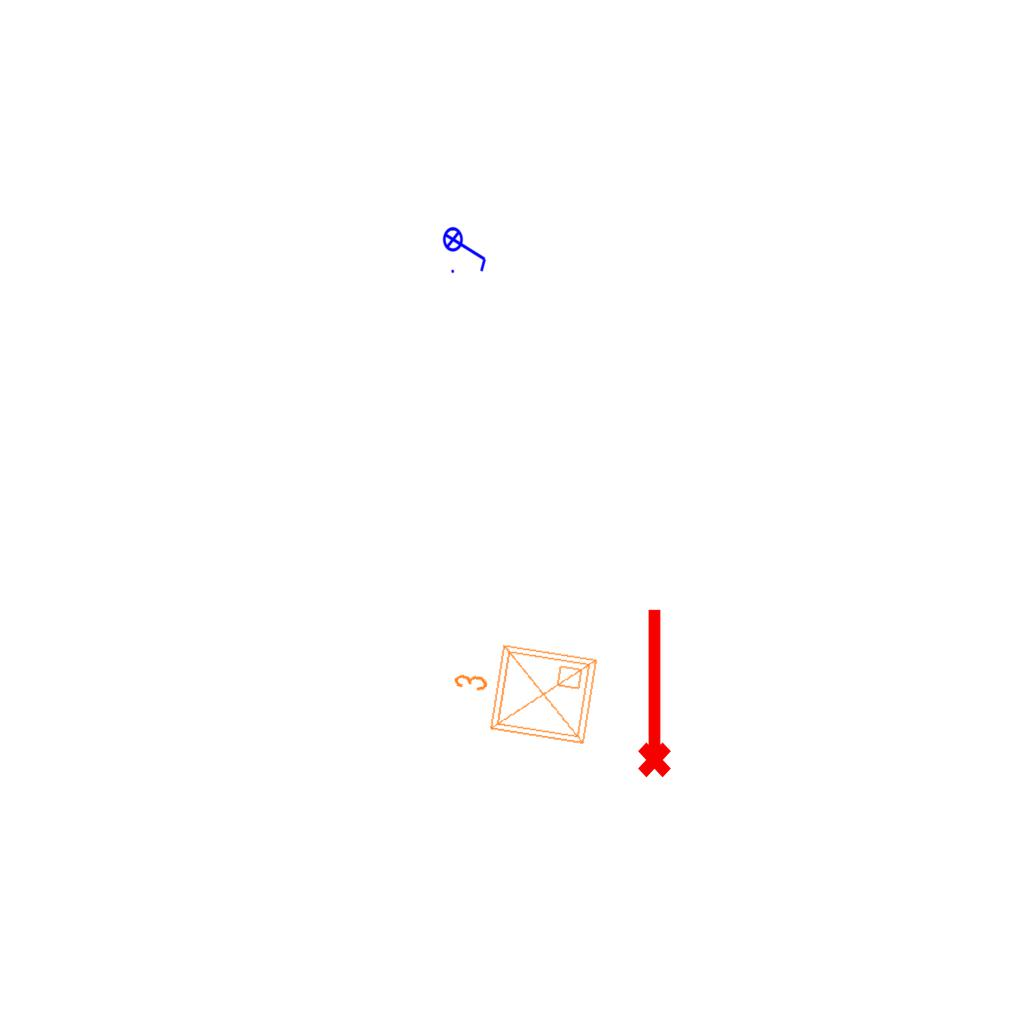ASR_Ansaugoeffnung: (629, 604, 675, 780)
Ausschalter_beleuchtet: (442, 220, 490, 276)
Einbaudownlights_LED_Konferenzraeume: (440, 629, 606, 757)
